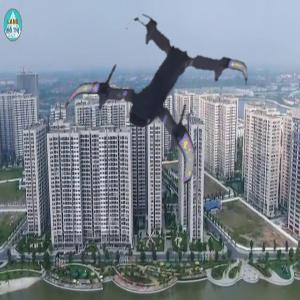drone: (70, 19, 238, 187)
